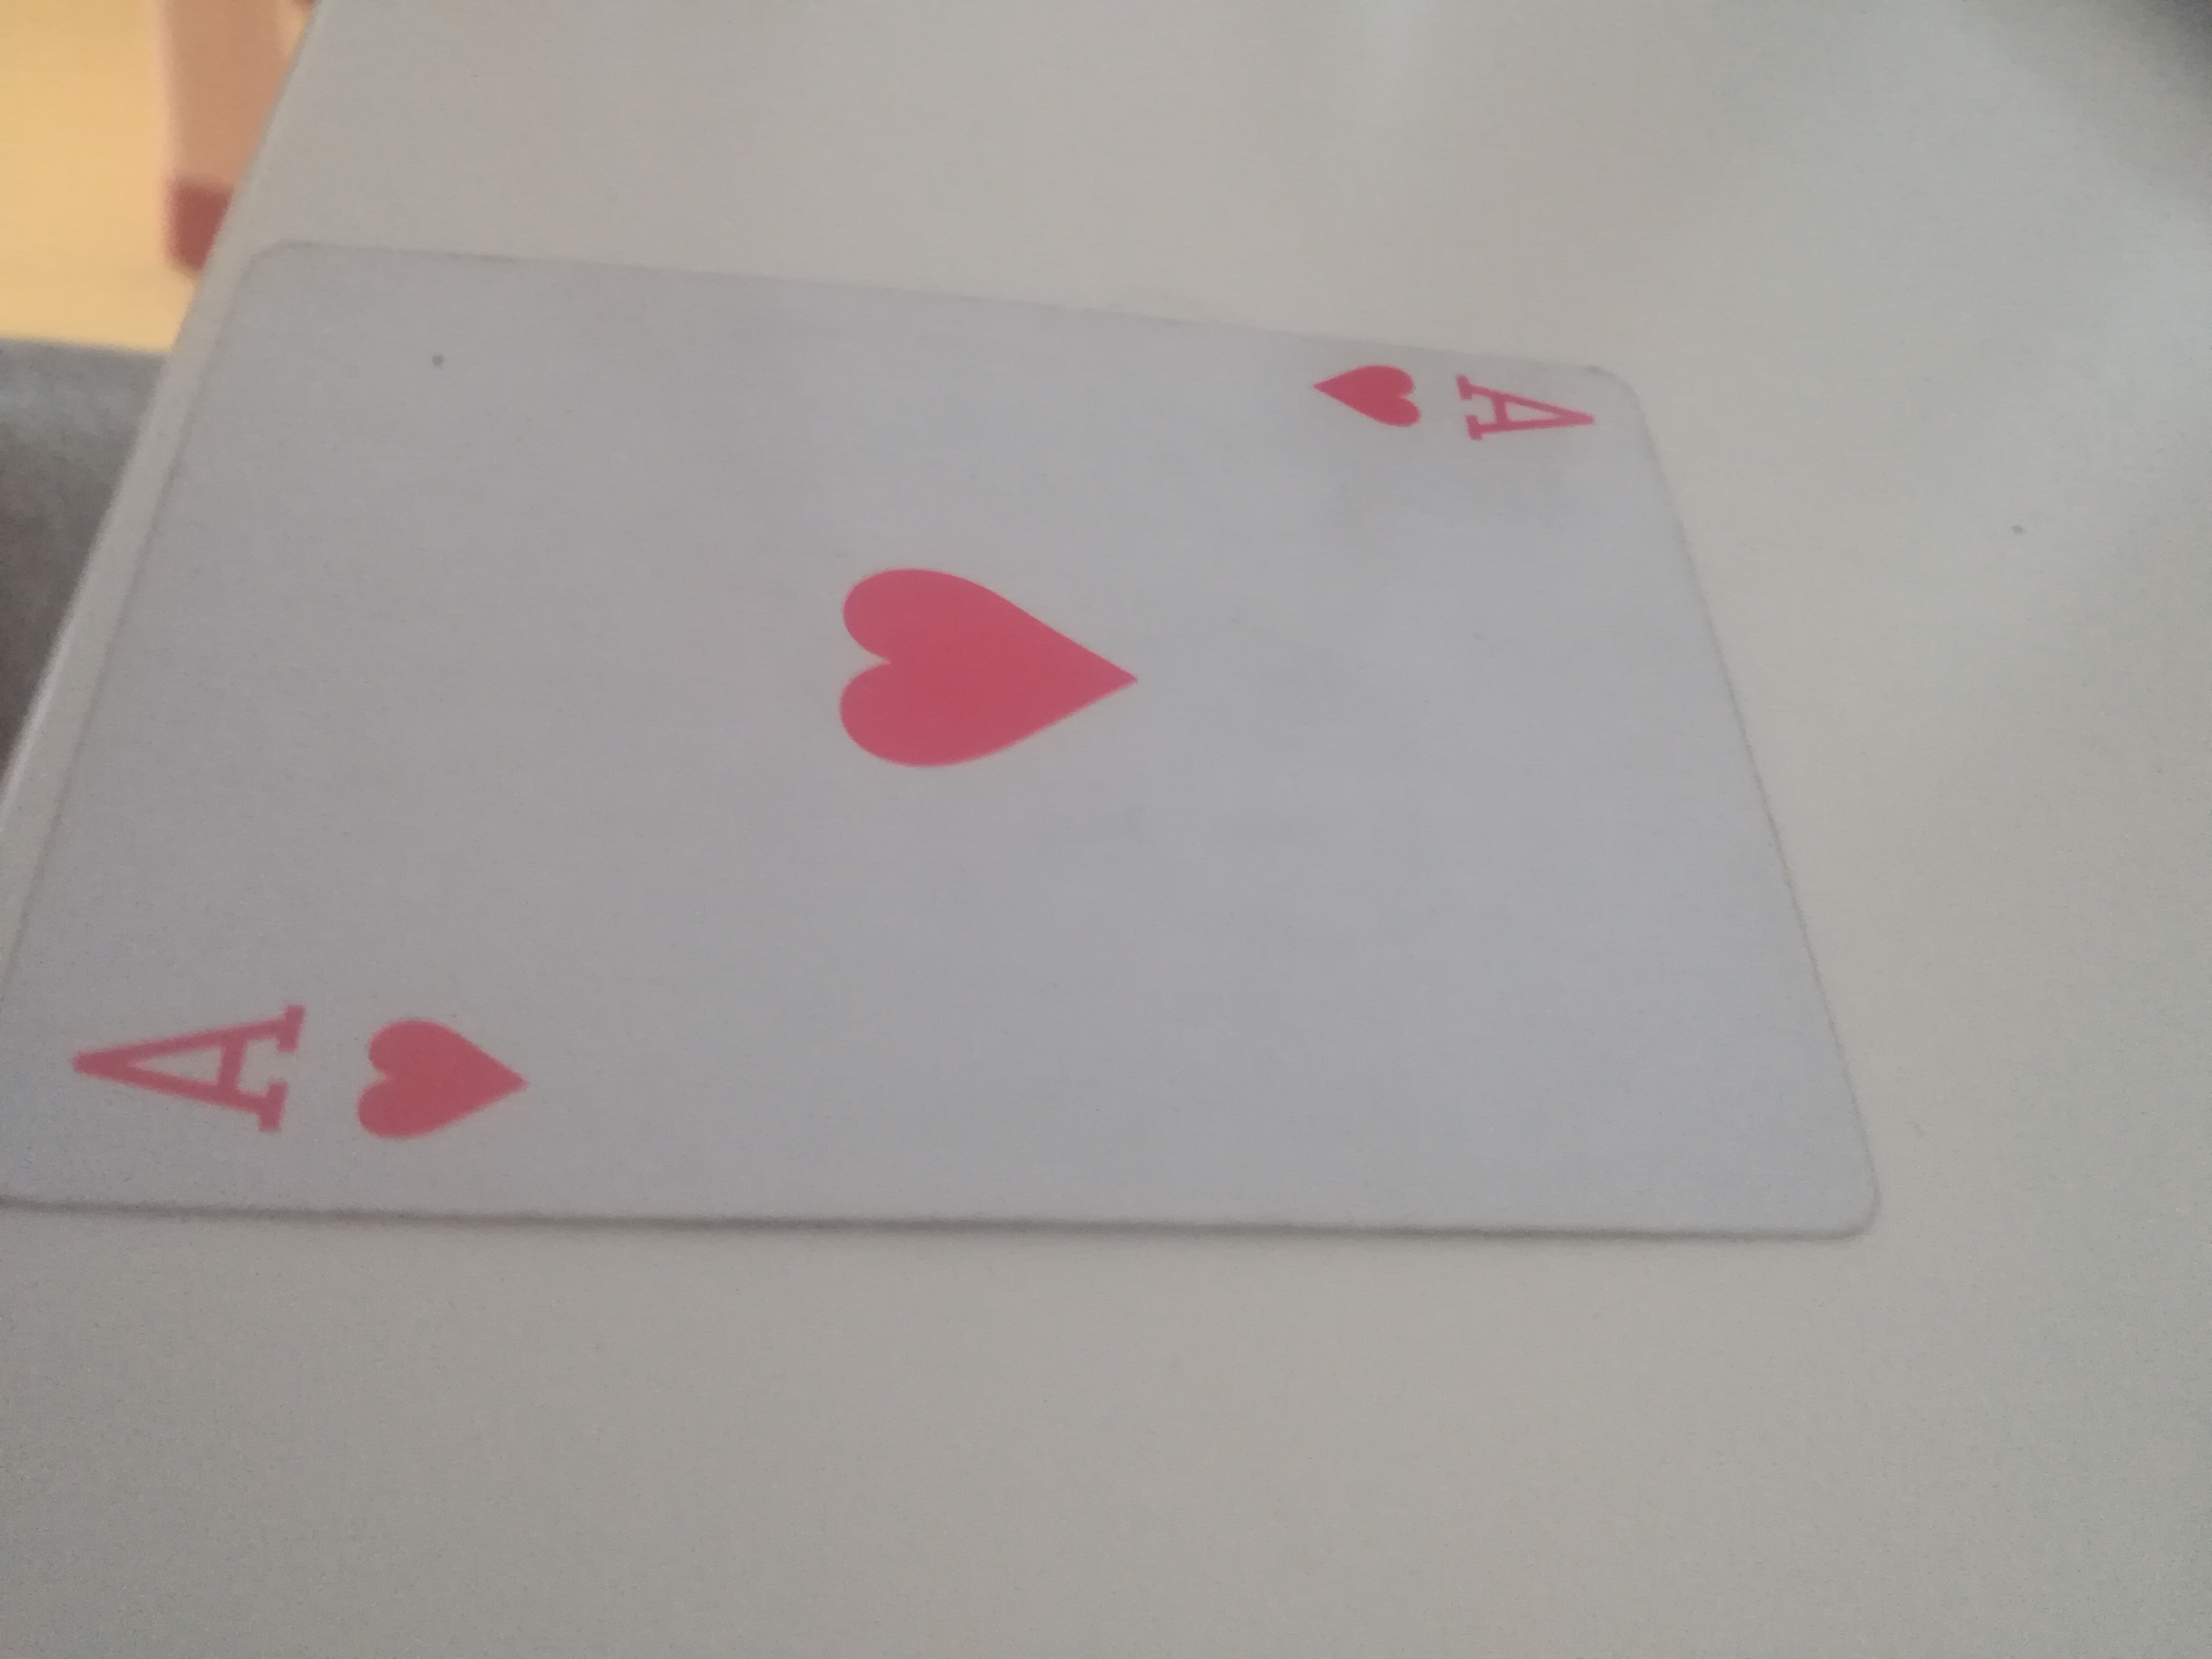AH: (0, 228, 1893, 1276)
